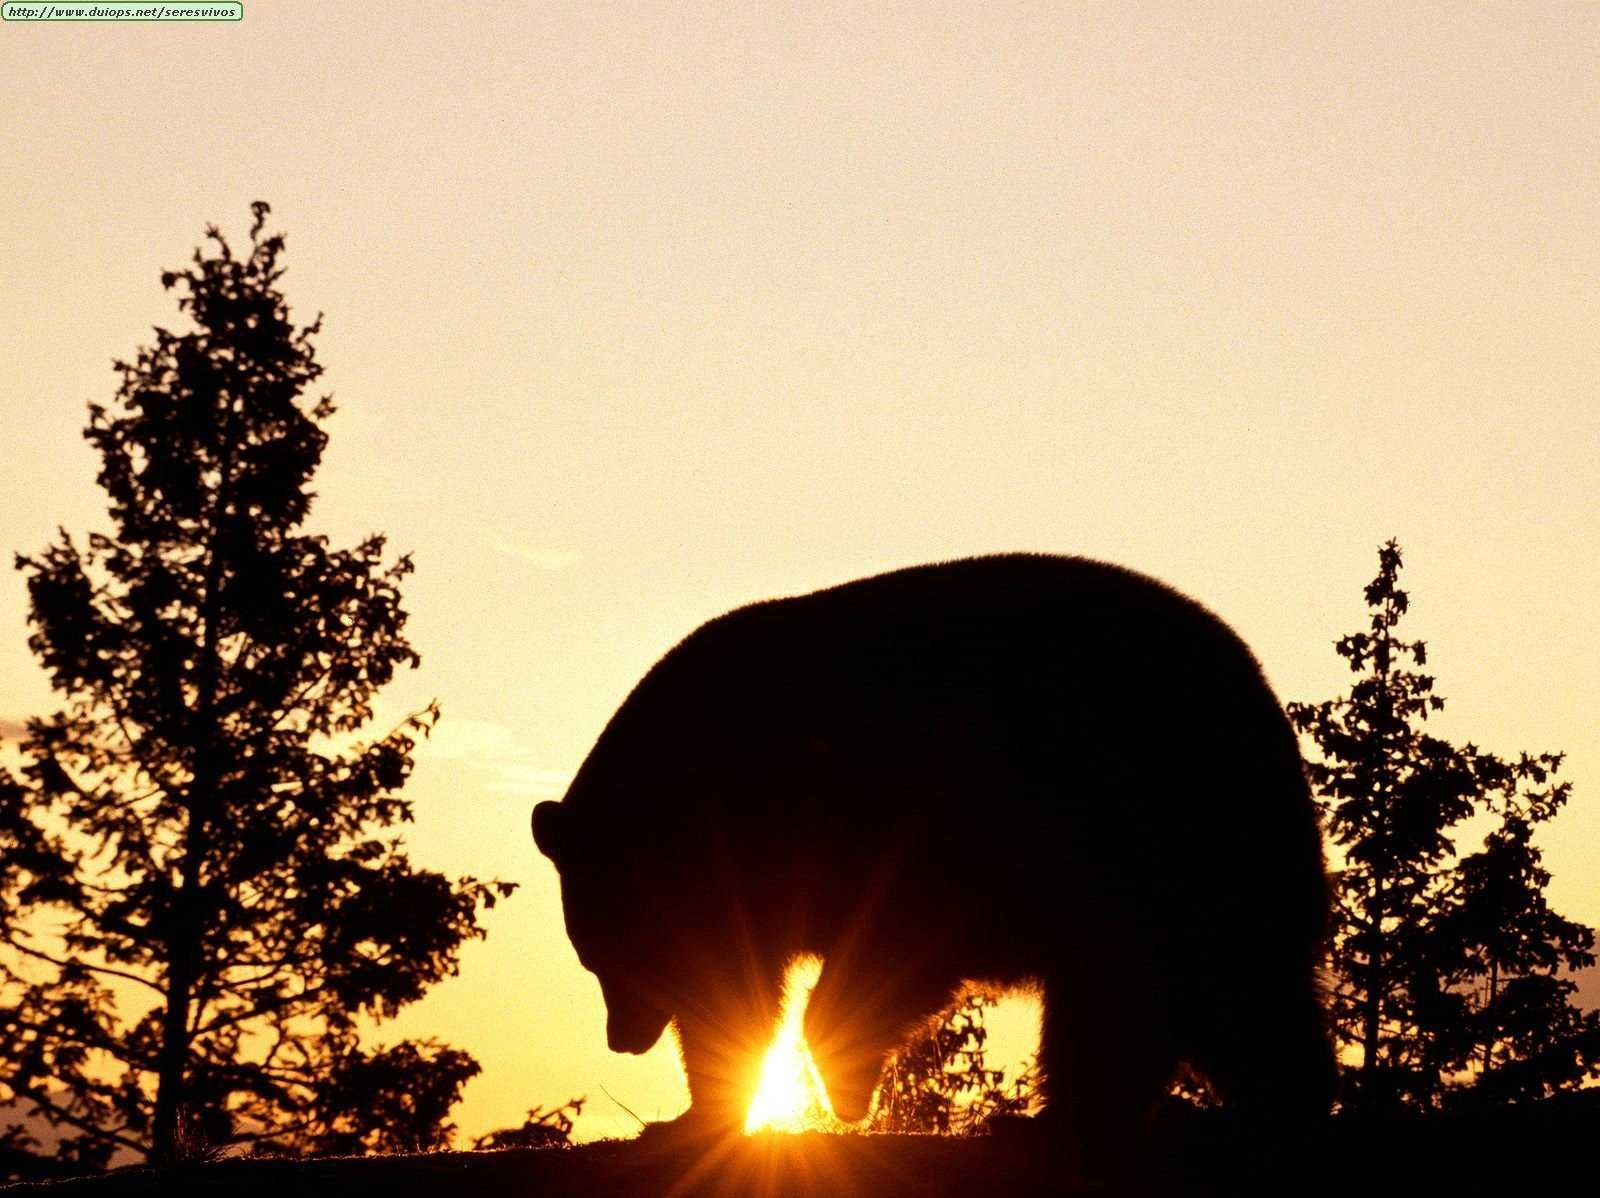bear: (569, 927, 697, 1055), (499, 770, 626, 898)
